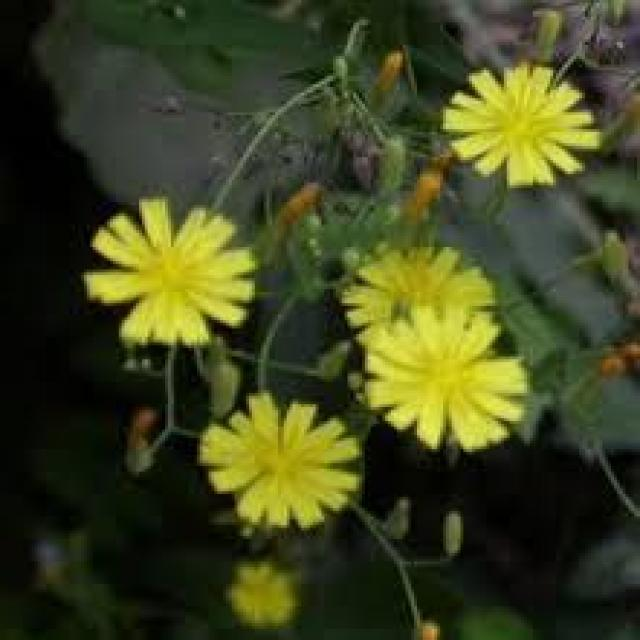organic waste: (78, 199, 261, 348), (366, 314, 540, 455), (200, 386, 362, 532), (436, 62, 610, 188), (342, 238, 501, 368)
